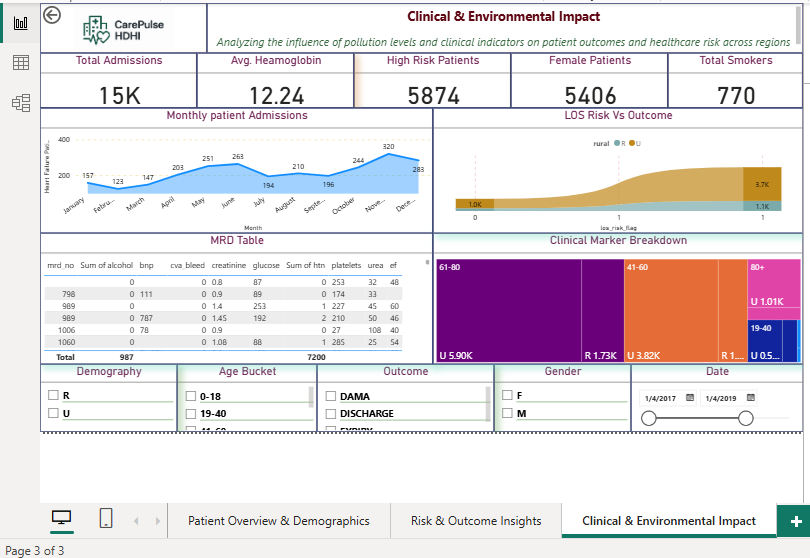

This screenshot's page, from the dashboard's own definition file:
{"tool":"powerbi","page":{"name":"Clinical & Environmental Impact","canvas":[1280,720],"ordinal":2},"visuals":[{"type":"image","box":[0,0,280.2,83.9],"z":0},{"type":"textbox","box":[280.2,0,999.8,83.9],"z":1},{"type":"card","title":"Total Admissions","fields":{"Values":["MasterHospitalData.Monthly Admissions"]},"box":[0,83.9,263.4,92.3],"z":2},{"type":"card","title":"High Risk Patients","fields":{"Values":["MasterHospitalData.Total Predicted Patients"]},"box":[526.8,83.9,263.4,92.3],"z":3},{"type":"card","title":"Avg. Heamoglobin","fields":{"Values":["MasterHospitalData.Avg Hemoglobin"]},"box":[263.4,83.9,263.4,92.3],"z":4},{"type":"card","title":"Female Patients","fields":{"Values":["MasterHospitalData.Female Patients"]},"box":[790.1,83.9,263.4,92.3],"z":5},{"type":"card","title":"Total Smokers","fields":{"Values":["MasterHospitalData.Total Smokers"]},"box":[1053.5,83.9,226.5,92.3],"z":6},{"type":"slicer","title":"Gender","fields":{"Values":["MasterHospitalData.gender"]},"box":[761.6,605.6,229.8,114.1],"z":7},{"type":"slicer","title":"Age Bucket","fields":{"Values":["MasterHospitalData.age_bucket"]},"box":[229.8,605.6,234.9,114.1],"z":8},{"type":"slicer","title":"Demography","fields":{"Values":["MasterHospitalData.rural"]},"box":[0,605.6,229.8,114.1],"z":9},{"type":"slicer","title":"Outcome","fields":{"Values":["MasterHospitalData.outcome"]},"box":[464.7,605.6,296.9,114.1],"z":10},{"type":"slicer","title":"Date","fields":{"Values":["MasterHospitalData.doa"]},"box":[991.5,605.6,288.5,114.1],"z":11},{"type":"areaChart","title":"Monthly patient Admissions","fields":{"Category":["MasterHospitalData.doa.Variation.Date Hierarchy.Month"],"Y":["MasterHospitalData.Heart Failure Patients"]},"box":[0,176.1,659.3,209.7],"z":12},{"type":"tableEx","title":"MRD Table","fields":{"Values":["MasterHospitalData.mrd_no","Sum(MasterHospitalData.alcohol)","MasterHospitalData.bnp","MasterHospitalData.cva_bleed","MasterHospitalData.creatinine","MasterHospitalData.glucose","Sum(MasterHospitalData.htn)","MasterHospitalData.platelets","MasterHospitalData.urea","MasterHospitalData.ef"]},"box":[0,385.8,659.3,219.8],"z":13},{"type":"treemap","title":"Clinical Marker Breakdown","fields":{"Values":["CountNonNull(MasterHospitalData.mrd_no)"],"Group":["MasterHospitalData.age_bucket"],"Details":["MasterHospitalData.rural"]},"box":[659.3,385.8,620.7,219.8],"z":14},{"type":"ribbonChart","title":"LOS Risk Vs Outcome","fields":{"Y":["CountNonNull(PredictedOutcomes.outcome)"],"Category":["PredictedOutcomes.los_risk_flag"],"Series":["MasterHospitalData.rural"]},"box":[659.3,176.1,620.7,209.7],"z":15},{"type":"actionButton","box":[0,0,100,40],"z":16}]}

Visuals, with their boxes on the page's 1280x720 design canvas (x1, y1, x2, y2). These are canvas units, not pixel positions in the 810x558 screenshot, which may show the page scaled, cropped or inside an application window:
image: bbox=[0, 0, 280, 84]
textbox: bbox=[280, 0, 1280, 84]
"Total Admissions" card: bbox=[0, 84, 263, 176]
"High Risk Patients" card: bbox=[527, 84, 790, 176]
"Avg. Heamoglobin" card: bbox=[263, 84, 527, 176]
"Female Patients" card: bbox=[790, 84, 1054, 176]
"Total Smokers" card: bbox=[1054, 84, 1280, 176]
"Gender" slicer: bbox=[762, 606, 991, 720]
"Age Bucket" slicer: bbox=[230, 606, 465, 720]
"Demography" slicer: bbox=[0, 606, 230, 720]
"Outcome" slicer: bbox=[465, 606, 762, 720]
"Date" slicer: bbox=[992, 606, 1280, 720]
"Monthly patient Admissions" areaChart: bbox=[0, 176, 659, 386]
"MRD Table" tableEx: bbox=[0, 386, 659, 606]
"Clinical Marker Breakdown" treemap: bbox=[659, 386, 1280, 606]
"LOS Risk Vs Outcome" ribbonChart: bbox=[659, 176, 1280, 386]
actionButton: bbox=[0, 0, 100, 40]
